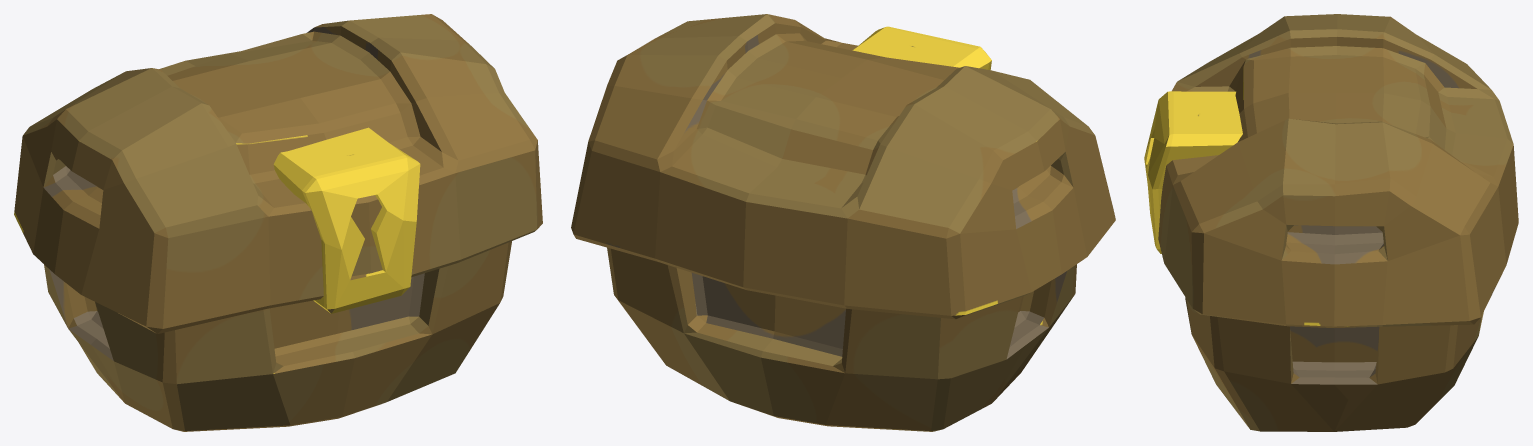
File: token.glb
The picture shows the model from 3 angles, left to right: view 1: azimuth 30°, elevation 25°; view 2: azimuth 150°, elevation 25°; view 3: azimuth 270°, elevation 25°; orthographic projection. The views are drawn at different scales.
Parts seen in each view (by area): view 1: Cube.001; view 2: Cube.001; view 3: Cube.001.
Part boxes in pixels (bbox=[...]): Cube.001: bbox=[14, 14, 542, 431]; Cube.001: bbox=[571, 14, 1115, 431]; Cube.001: bbox=[1144, 14, 1518, 431].
Bounding box in the file's own units: 3.87 × 2.66 × 3.04.
1 material, 1 textured.
